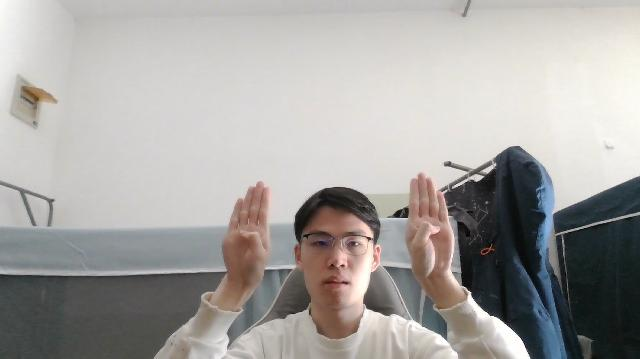four: (407, 171, 456, 280), (221, 183, 273, 279)
